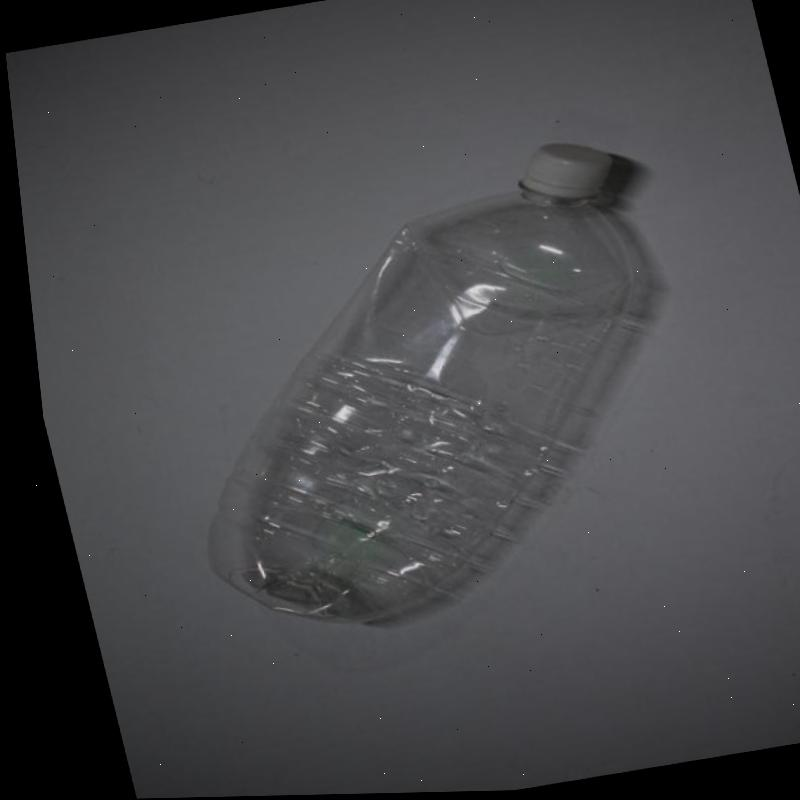botella: (114, 133, 712, 649)
